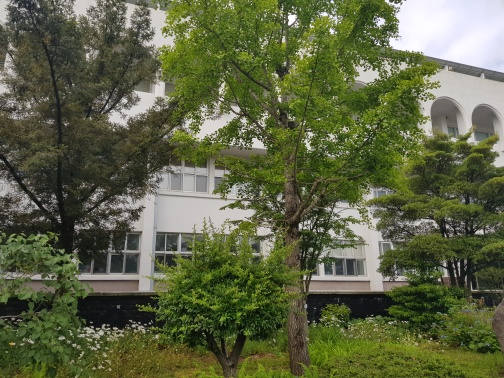Main Building of University: (106, 13, 502, 292)
